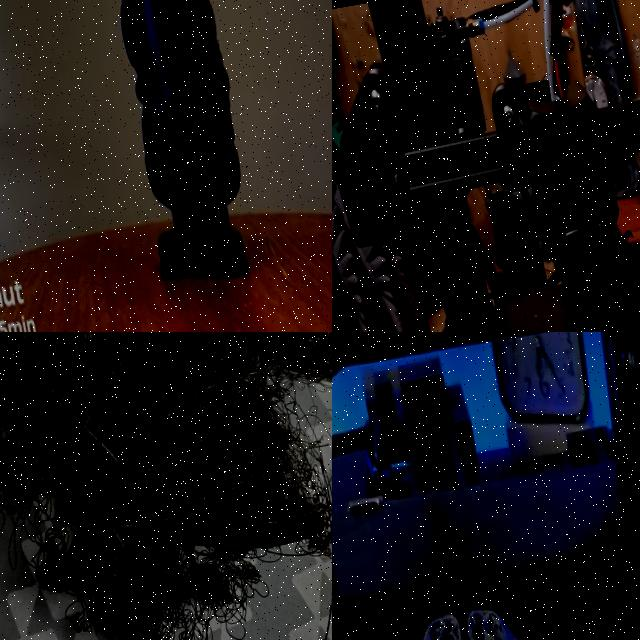spaghetti: (0, 332, 332, 640), (502, 235, 640, 332)
